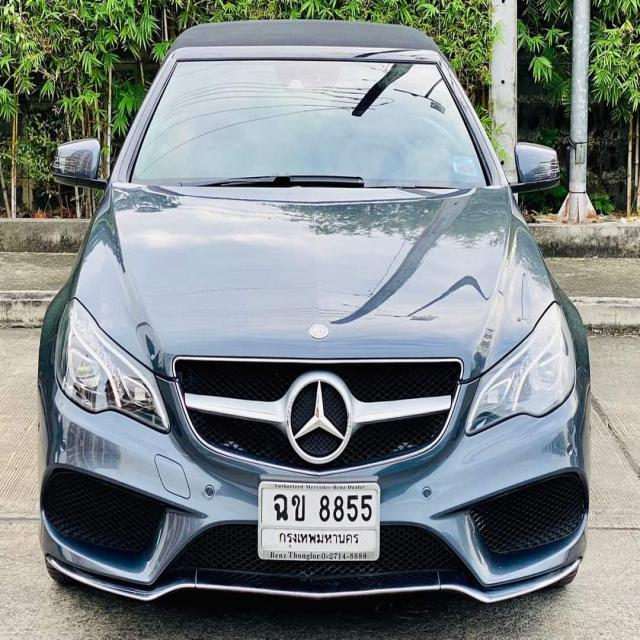license_plate: (258, 481, 380, 563)
